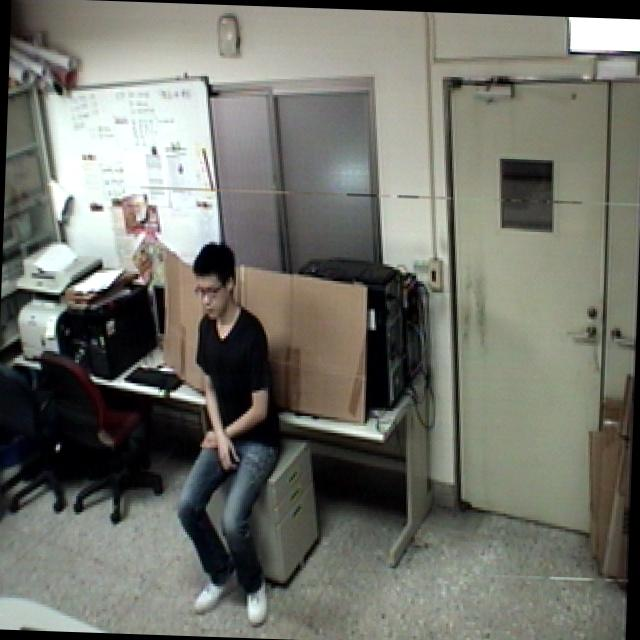sit: (169, 236, 289, 638)
